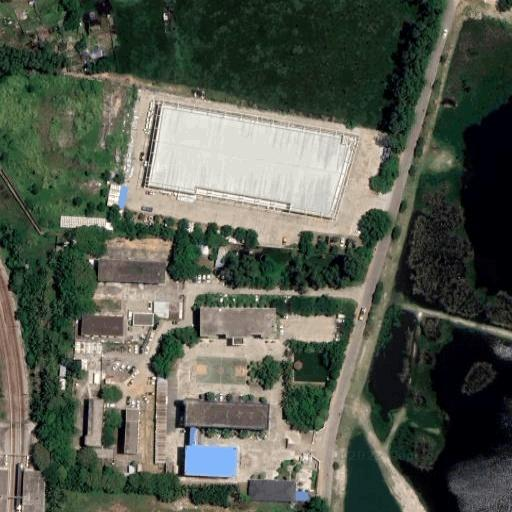building: (144, 102, 361, 219), (183, 401, 270, 429), (200, 308, 276, 336), (183, 444, 237, 475), (99, 260, 164, 283), (21, 467, 51, 512), (249, 480, 296, 502), (155, 379, 167, 463), (84, 399, 104, 447), (82, 315, 123, 336), (124, 409, 139, 453), (59, 217, 114, 228), (89, 446, 115, 459), (107, 181, 120, 206), (116, 184, 129, 207), (133, 313, 153, 326), (75, 343, 101, 353), (153, 302, 170, 317), (216, 246, 229, 265), (90, 50, 103, 61), (295, 492, 308, 502), (188, 427, 195, 445), (231, 336, 244, 345), (294, 361, 303, 370), (127, 465, 134, 475), (59, 378, 65, 389), (59, 365, 65, 375), (94, 373, 99, 384), (338, 312, 347, 318), (137, 464, 142, 472)
